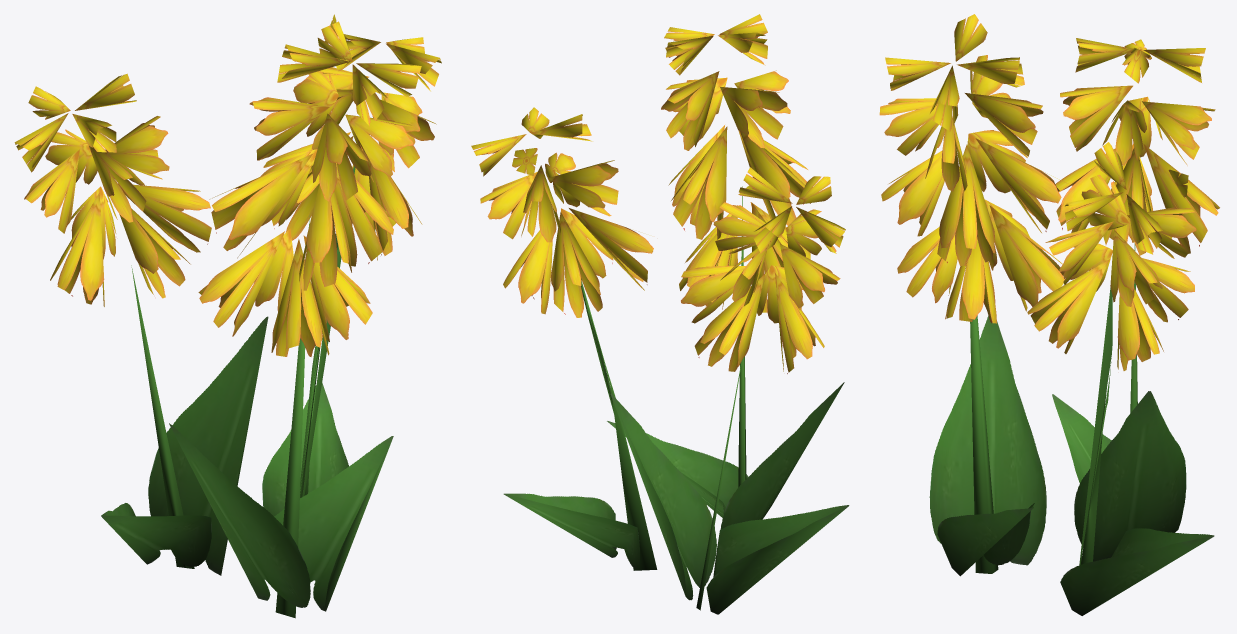
Rendered from hias-bunga-2.glb.
3 renders of one model, left to right at view 1: azimuth 30°, elevation 25°; view 2: azimuth 150°, elevation 25°; view 3: azimuth 270°, elevation 25°, orthographic. The views are drawn at different scales.
Visible parts, largest first — view 1: Flower_4_Group; view 2: Flower_4_Group; view 3: Flower_4_Group.
Boxes of the visible parts, <box> form: Flower_4_Group: <box>14,14,441,618</box>; Flower_4_Group: <box>471,14,849,614</box>; Flower_4_Group: <box>879,14,1219,615</box>.
Size of the model in its own units: 0.4328 by 0.5902 by 0.3242.
2 materials, 2 textured.
